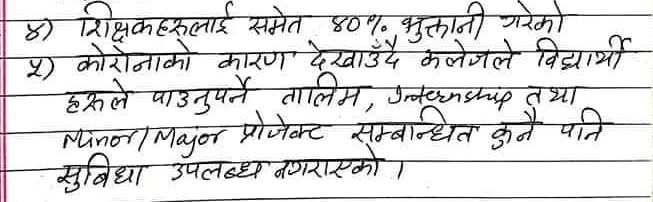text: (75, 1, 237, 42), (349, 108, 479, 146), (274, 145, 391, 184), (151, 74, 256, 114), (72, 42, 199, 75), (528, 35, 637, 72), (55, 153, 149, 194), (401, 3, 491, 41), (416, 40, 518, 72), (305, 37, 403, 70), (237, 112, 330, 145), (60, 78, 136, 117), (167, 158, 269, 187), (278, 73, 363, 106), (487, 108, 544, 152), (495, 1, 571, 32), (557, 106, 610, 145), (213, 48, 299, 72), (243, 5, 307, 36), (521, 82, 583, 107), (328, 10, 363, 37), (21, 12, 47, 44), (24, 54, 52, 82), (366, 10, 390, 36)
